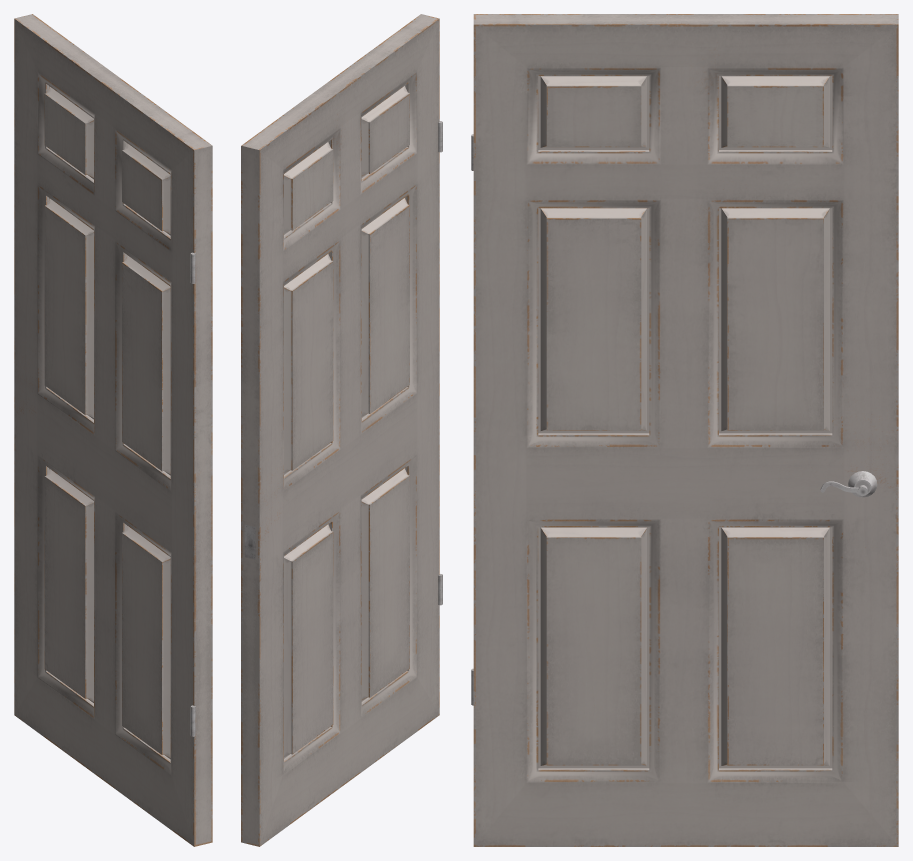
The model's file is door_kulpsuz.fbx.
3 renders of one model, left to right at view 1: azimuth 30°, elevation 25°; view 2: azimuth 150°, elevation 25°; view 3: azimuth 270°, elevation 25°, orthographic. The views are drawn at different scales.
Visible parts, largest first — view 1: SM_Doorway_Door_LOD0; view 2: SM_Doorway_Door_LOD0; view 3: SM_Doorway_Door_LOD0.
Boxes of the visible parts, x1=… form: SM_Doorway_Door_LOD0: x1=14, y1=14, x2=212, y2=846; SM_Doorway_Door_LOD0: x1=241, y1=14, x2=442, y2=846; SM_Doorway_Door_LOD0: x1=471, y1=14, x2=898, y2=846.
Size of the model in its own units: 11.76 by 229 by 108.
